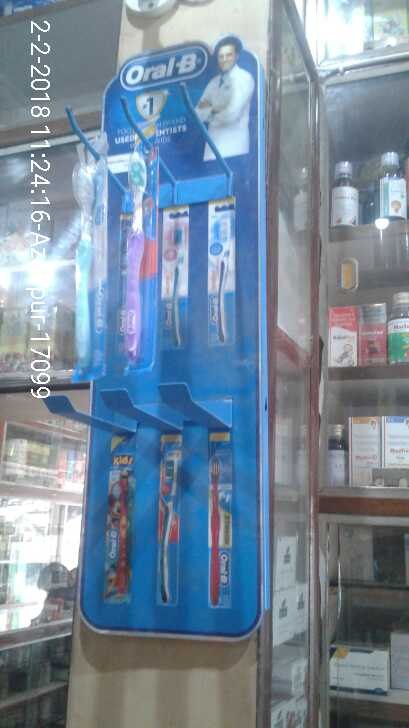oralb: (110, 129, 167, 387), (62, 150, 106, 389)
